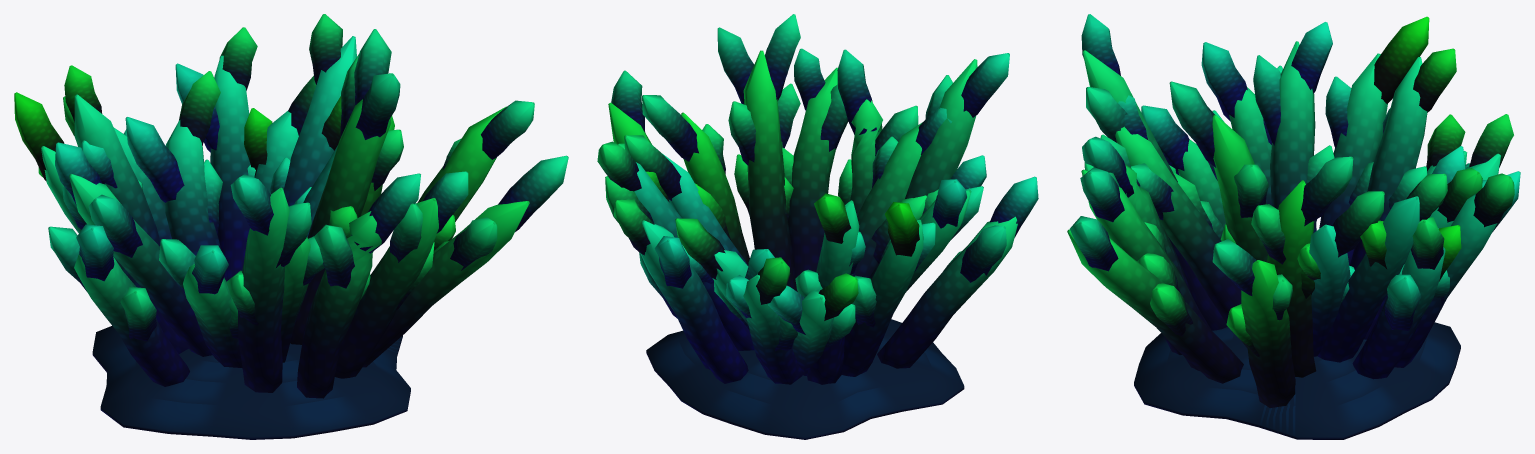
Rendered from reef-pocillopora-cauliflower-bush.glb.
The picture shows the model from 3 angles, left to right: view 1: azimuth 30°, elevation 25°; view 2: azimuth 150°, elevation 25°; view 3: azimuth 270°, elevation 25°; orthographic projection. The views are drawn at different scales.
Visible parts, largest first — view 1: Reef_Pocillopora_Cauliflower_Bush; view 2: Reef_Pocillopora_Cauliflower_Bush; view 3: Reef_Pocillopora_Cauliflower_Bush.
Part boxes in pixels (left/top/right/bottom): Reef_Pocillopora_Cauliflower_Bush: left=14, top=14, right=568, bottom=439; Reef_Pocillopora_Cauliflower_Bush: left=597, top=14, right=1038, bottom=439; Reef_Pocillopora_Cauliflower_Bush: left=1067, top=14, right=1520, bottom=439.
Size of the model in its own units: 0.3056 by 0.2094 by 0.2671.
1 material, 1 textured.
